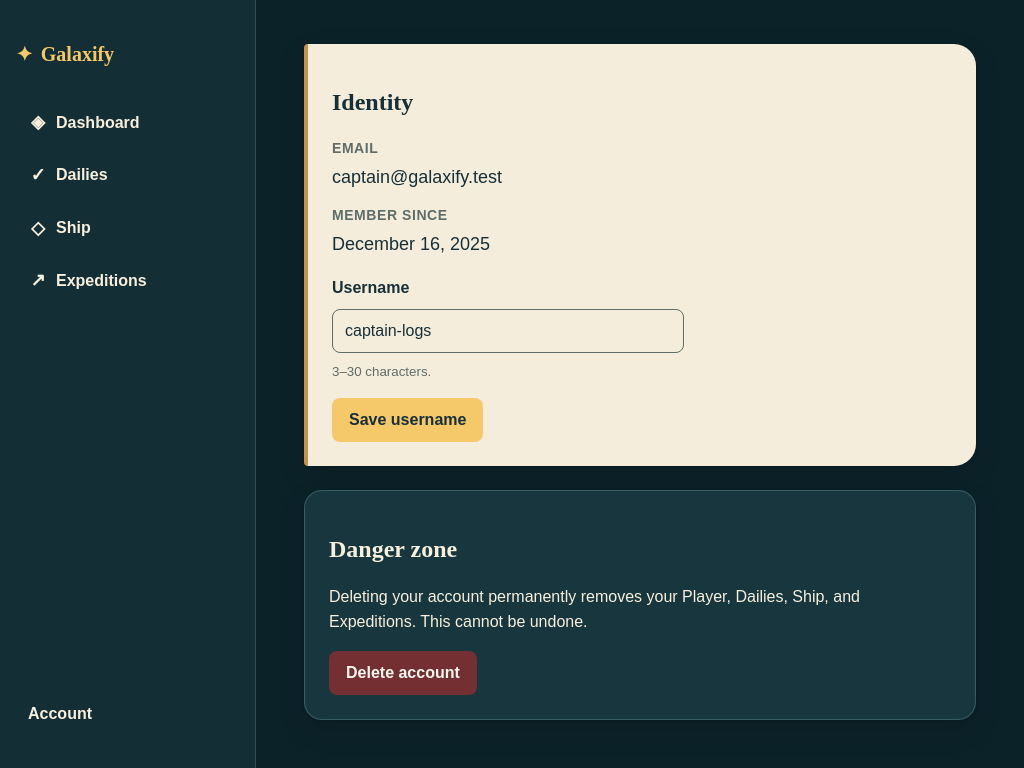
Test case: Profile page › requires a password before deleting and keeps the dialog open on failure
(page scrolled)
Expected: the text "captain@galaxify.test" is shown, x1=332 y1=167 x2=502 y2=187
Click the button "Delete account": point(403, 673) x1=329 y1=651 x2=477 y2=695
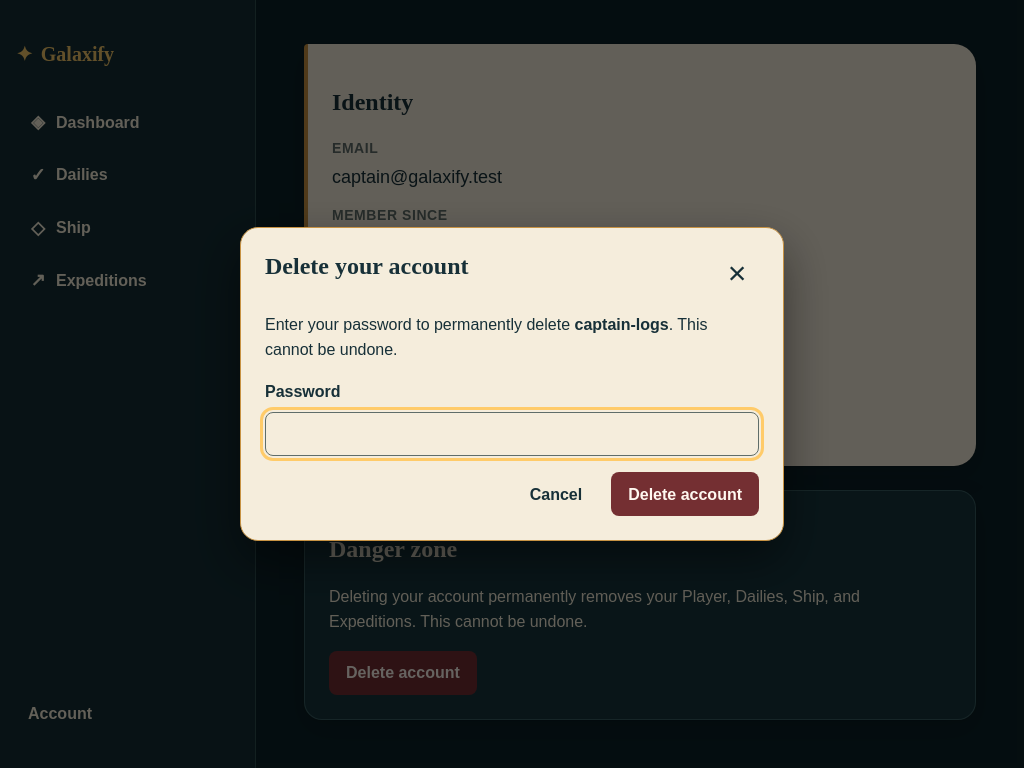
Click the button "Delete account": point(685, 494) x1=611 y1=472 x2=759 y2=516
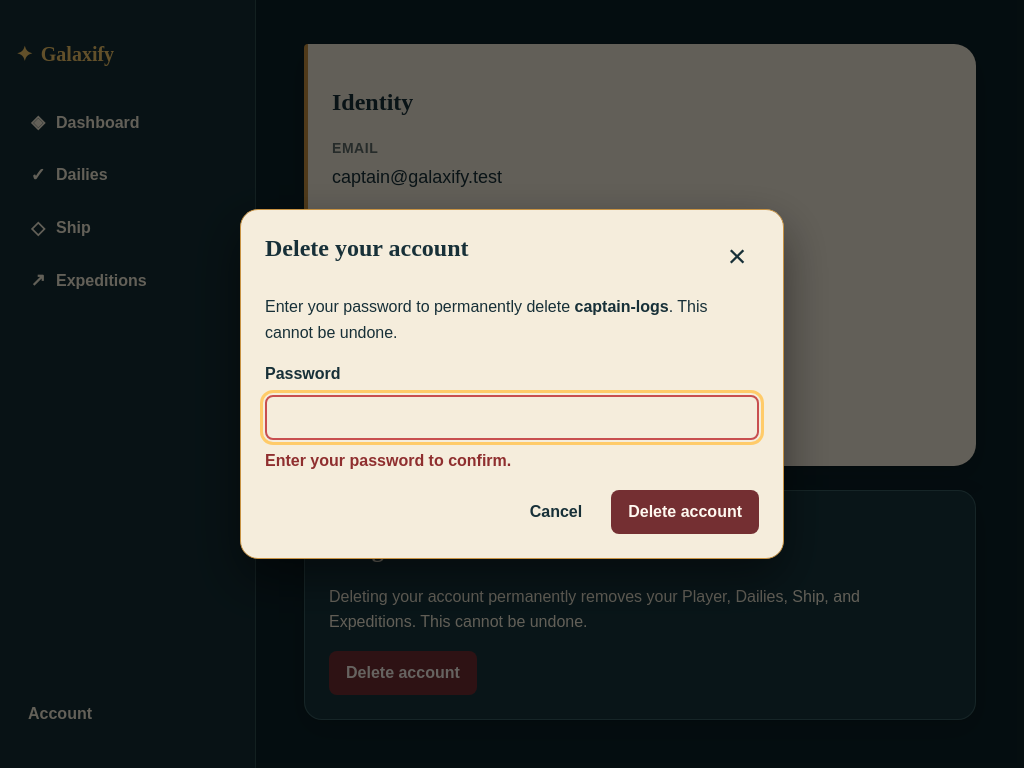
Expected: the dialog "Delete your account" is shown, x1=240 y1=209 x2=784 y2=559
Expected: the text "Enter your password to confirm." is shown, x1=265 y1=452 x2=511 y2=469
